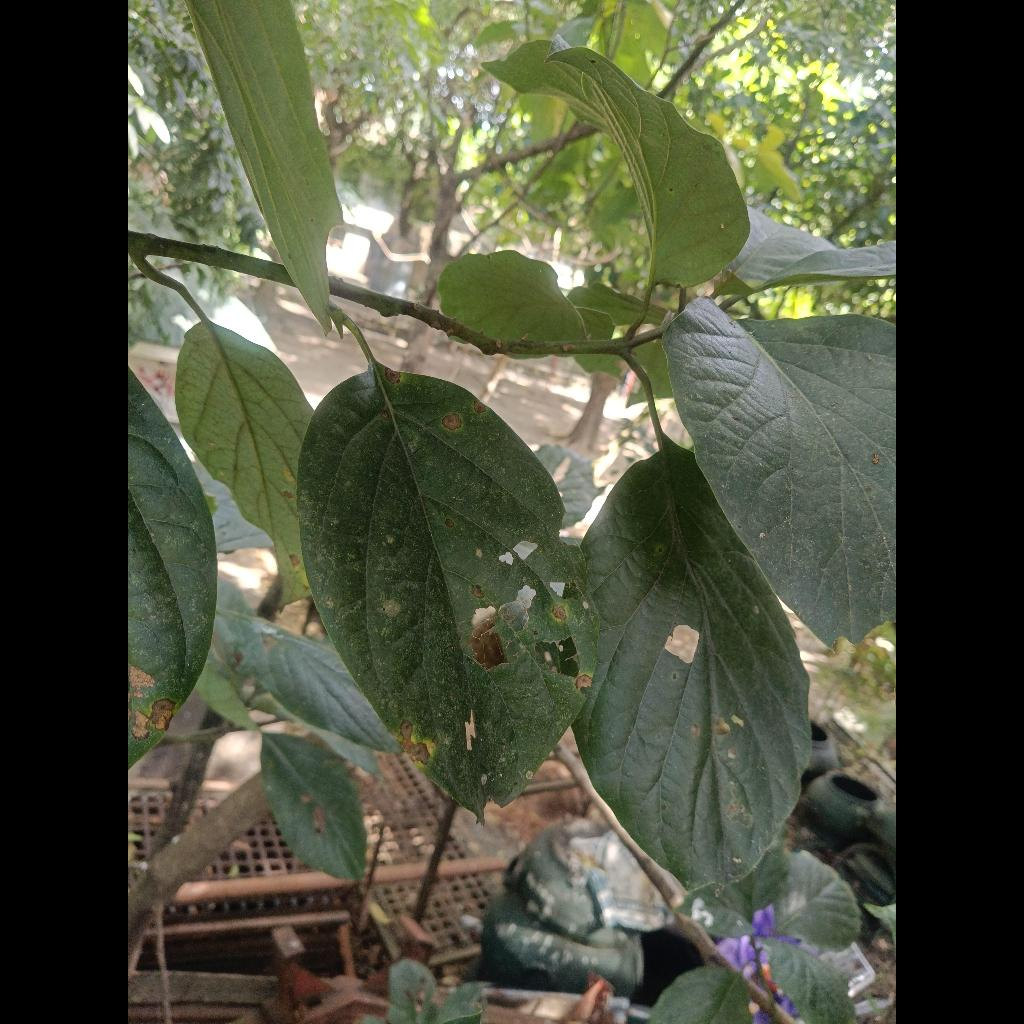plaga: (298, 361, 598, 816), (574, 439, 809, 886)
